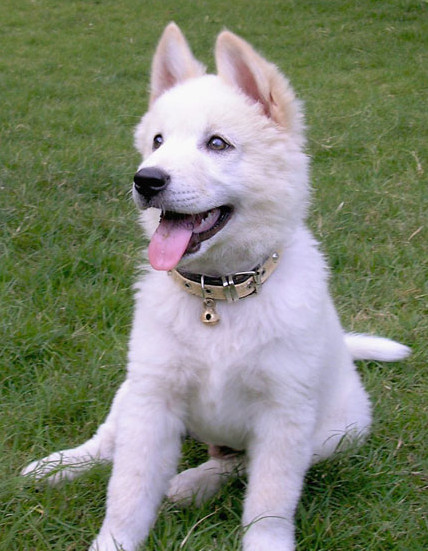dog: (0, 0, 428, 551)
